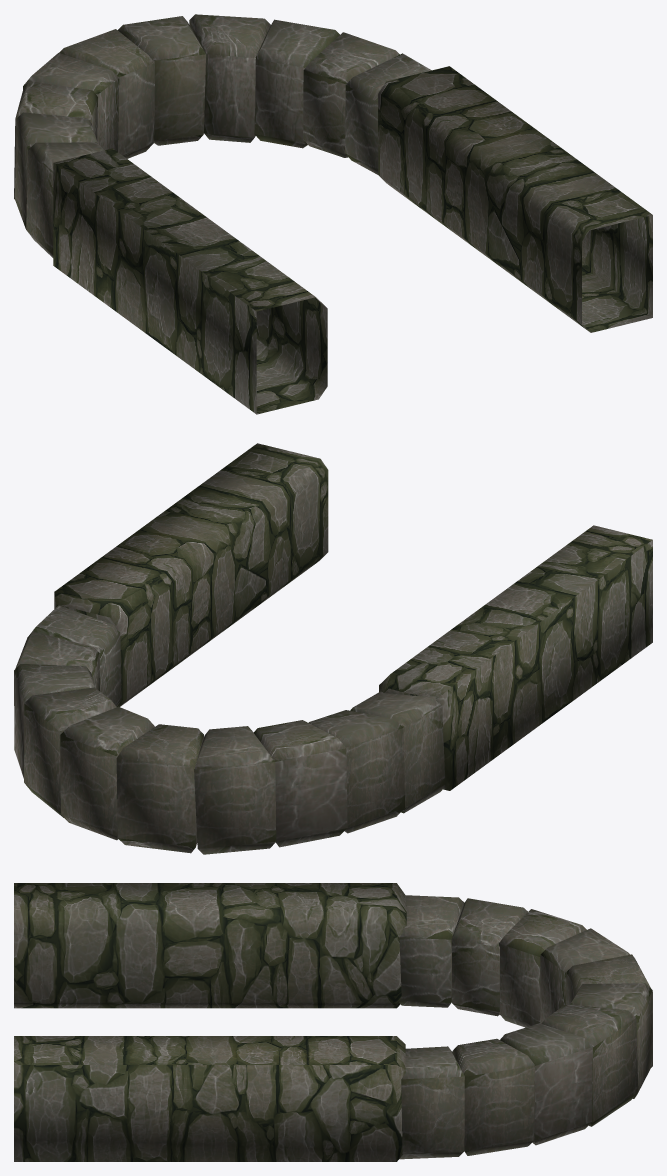
Rendered from TI_Archway_02.fbx.
3 renders of one model, top to bottom at view 1: azimuth 30°, elevation 25°; view 2: azimuth 150°, elevation 25°; view 3: azimuth 270°, elevation 25°, orthographic. The views are drawn at different scales.
Parts seen in each view (by area): view 1: TI_Archway_02; view 2: TI_Archway_02; view 3: TI_Archway_02.
Boxes of the visible parts, x1,y1,x2,y2 form: TI_Archway_02: (14,14,652,414); TI_Archway_02: (14,443,652,854); TI_Archway_02: (14,883,652,1161).
Size of the model in its own units: 2.65 by 0.6912 by 3.93.
